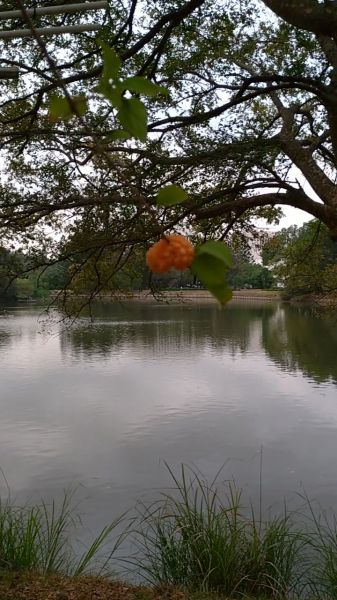eggs: (142, 233, 198, 277)
